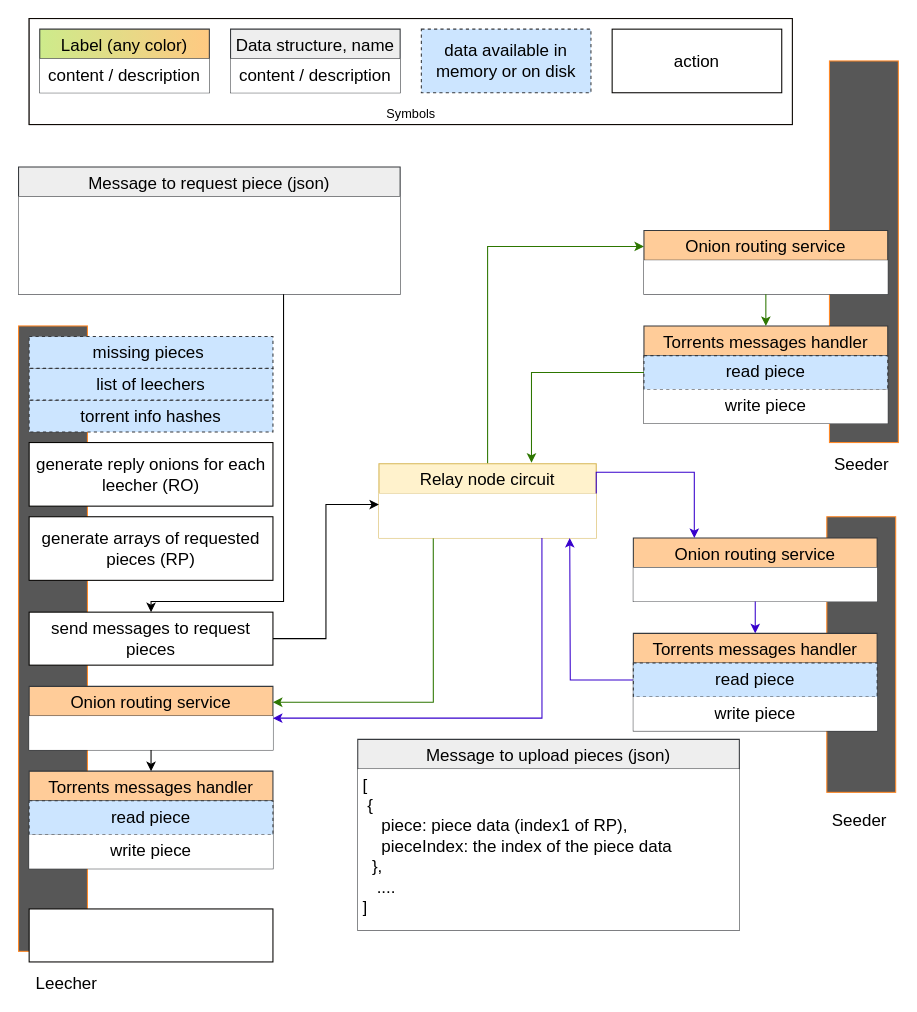
The diagram is 917 pixels wide and 1012 high, and some of its shapes have lost their labels. Here are the shapes that lost their labels. From the top down, the centre of each, then its label:
At (x=209, y=245): "{ requestPieces: [index1, index2, ...], (RP) replyOnoin: RO }".
At (x=487, y=515): "multiple relay nodes".
At (x=150, y=935): "repeat until all the missing pieces are obtained".
